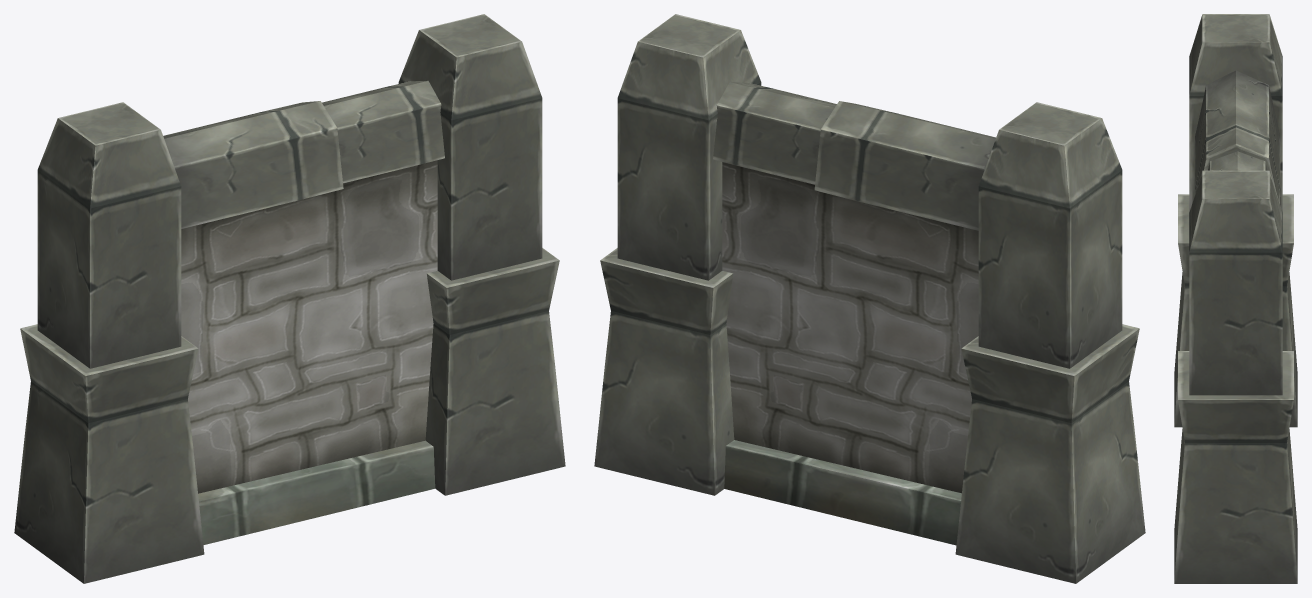
The model's file is wall_02_end.fbx.
3 renders of one model, left to right at view 1: azimuth 30°, elevation 25°; view 2: azimuth 150°, elevation 25°; view 3: azimuth 270°, elevation 25°, orthographic. The views are drawn at different scales.
Parts seen in each view (by area): view 1: wall_02_end:Mesh; view 2: wall_02_end:Mesh; view 3: wall_02_end:Mesh.
Part boxes in pixels (bbox=[...]): wall_02_end:Mesh: bbox=[14, 14, 565, 583]; wall_02_end:Mesh: bbox=[594, 14, 1145, 583]; wall_02_end:Mesh: bbox=[1174, 14, 1297, 583].
Size of the model in its own units: 3.37 by 2.81 by 0.8432.
